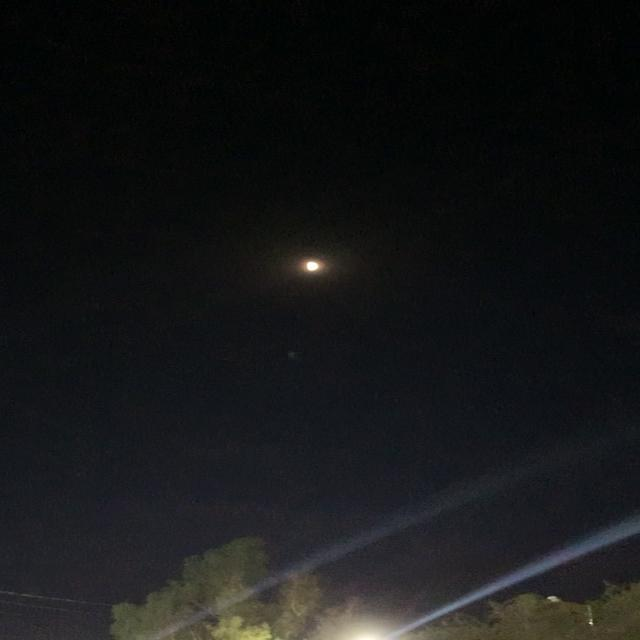moon: (290, 251, 337, 281)
